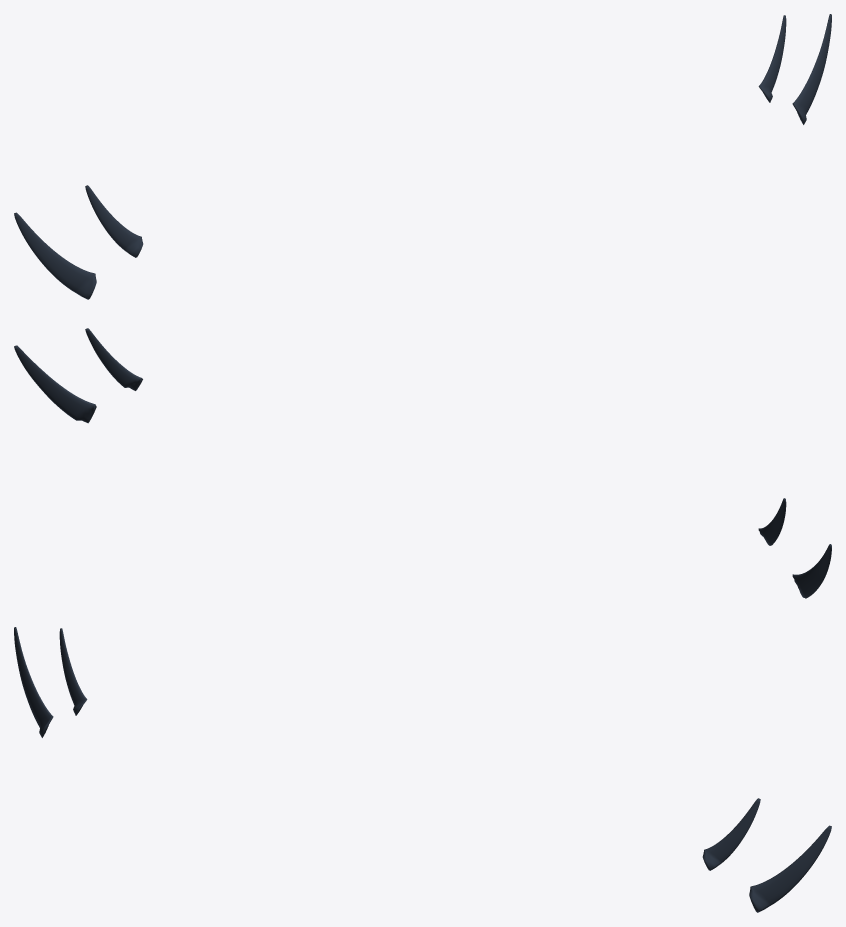
File: Feminine-tapered-lashes.glb
3 views of the same model, one above another, from view 1: azimuth 30°, elevation 25°; view 2: azimuth 150°, elevation 25°; view 3: azimuth 330°, elevation 25° (orthographic).
Parts seen in each view (by area): view 1: 226 eyelashes / Lashes / charcoal234; view 2: 226 eyelashes / Lashes / charcoal234; view 3: 226 eyelashes / Lashes / charcoal234.
Part boxes in pixels (x1,y1,x2,y2): 226 eyelashes / Lashes / charcoal234: [14, 14, 831, 299]; 226 eyelashes / Lashes / charcoal234: [14, 328, 831, 598]; 226 eyelashes / Lashes / charcoal234: [14, 627, 831, 912].
Bounding box in the file's own units: 0.4975 × 0.0608 × 0.0335.
